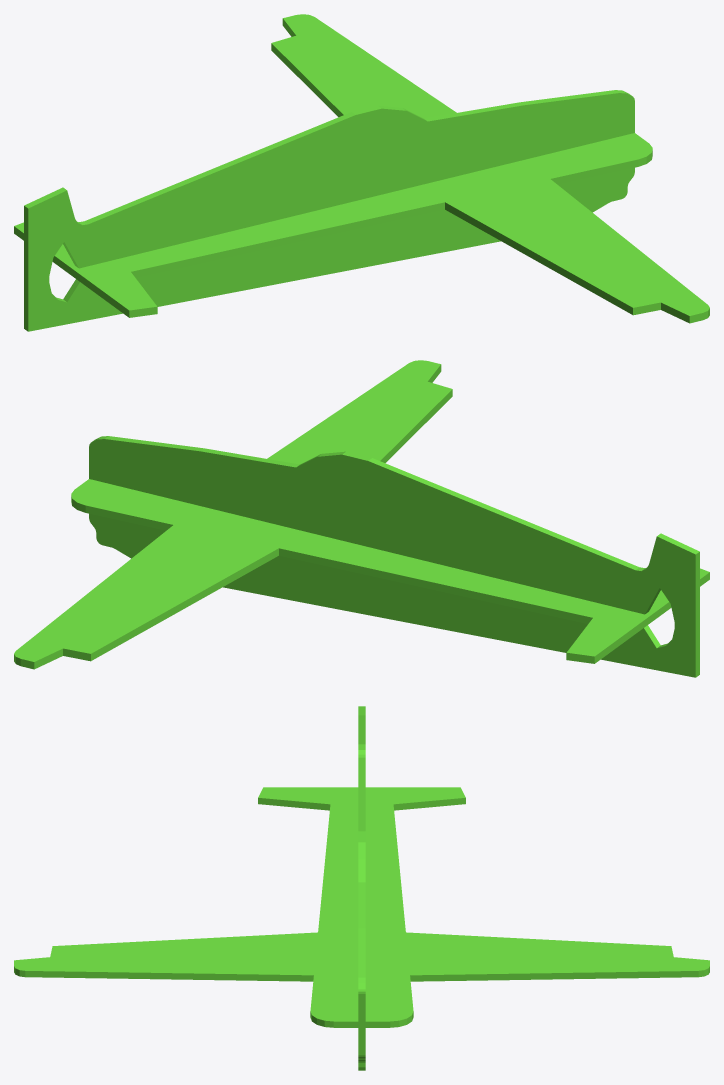
Rendered from fuselage.dae.
3 views of the same model, one above another, from view 1: azimuth 30°, elevation 25°; view 2: azimuth 150°, elevation 25°; view 3: azimuth 270°, elevation 25° (orthographic). The views are drawn at different scales.
Visible parts, largest first — view 1: fuselage; view 2: fuselage; view 3: fuselage.
Part boxes in pixels (box(x1,y1,x2,y2)): fuselage: box(14, 14, 709, 331); fuselage: box(14, 360, 709, 677); fuselage: box(14, 706, 709, 1070).
Size of the model in its own units: 0.513 by 0.596 by 0.1325.
